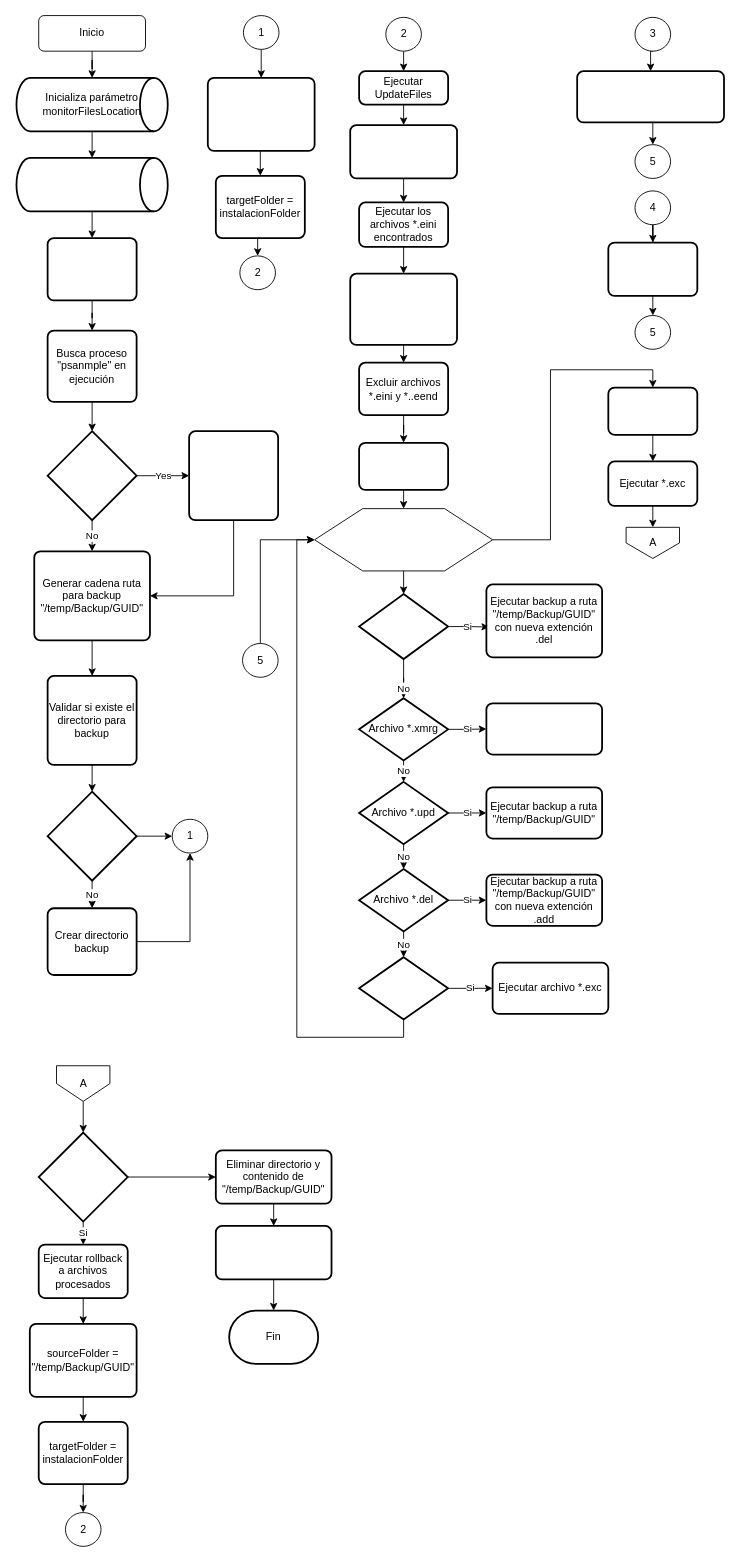
Some shapes in this 740 by 1562 pixel diagram are drawn without their labels. The shapes that lost their labels are listed below. From the top down, each one's centre as x and y in pixels, then its label:
(x=260, y=114): sourceFolder = monitorFilesLocation
(x=650, y=96): Borrar archivo de sourceFolder a targetFolder
(x=403, y=151): Buscar archivos *.eini en el directorio sourceFolder
(x=91, y=184): Inicializa parámetro instalacionFolder
(x=91, y=269): Ejecuta monitor
(x=652, y=268): Copiar archivo de sourceFolder a targetFolder
(x=403, y=308): Buscar archivos todos los archivos en el directorio sourceFolder
(x=652, y=410): Buscar archivos .exc en sourceFolder
(x=91, y=475): ¿Proceso "psample" en ejecución?
(x=233, y=475): Cerrar proceso "psample"
(x=403, y=465): Procesar el resto de los archivos
(x=403, y=539): Desde 1 Hasta "todos los archivos"
(x=403, y=626): Archivo *.add
(x=544, y=728): Ejecutar backup a ruta "/temp/Backup/GUID" con nueva extención .upd
(x=91, y=835): ¿Existe directorio?
(x=403, y=988): Archivo *.exc
(x=82, y=1176): ¿Error al actualizar?
(x=273, y=1252): Eliminar directorio y contenido de monitorFilesLocation
